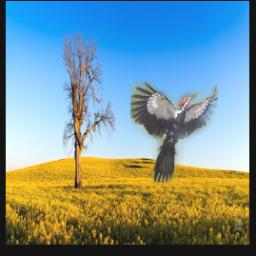Woodpecker: (130, 82, 218, 184)
